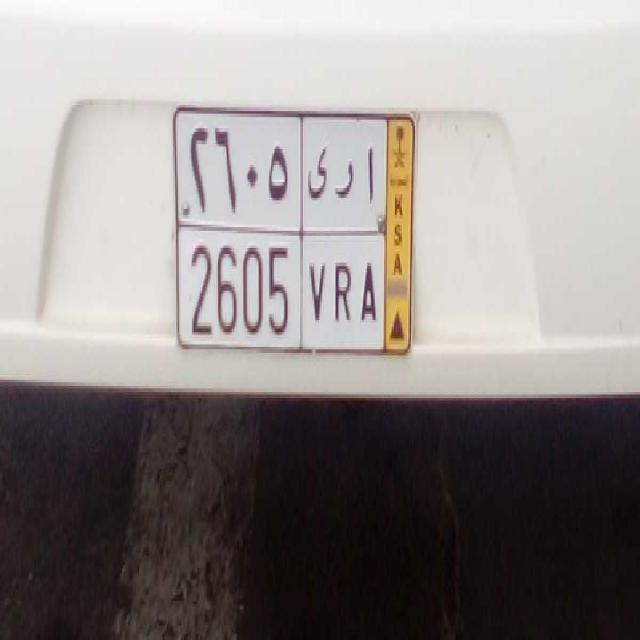license_plate: (176, 226, 384, 356)
